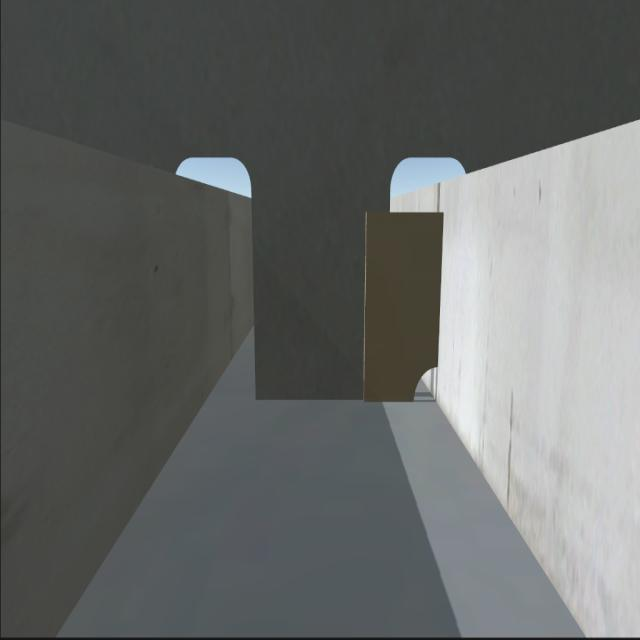fillet_hole: (409, 361, 438, 398)
fillet_yong_jeop_jang: (251, 392, 413, 407)
longi_yong_jeop_jang: (436, 214, 449, 366)
plate_CP01: (362, 208, 438, 394)
